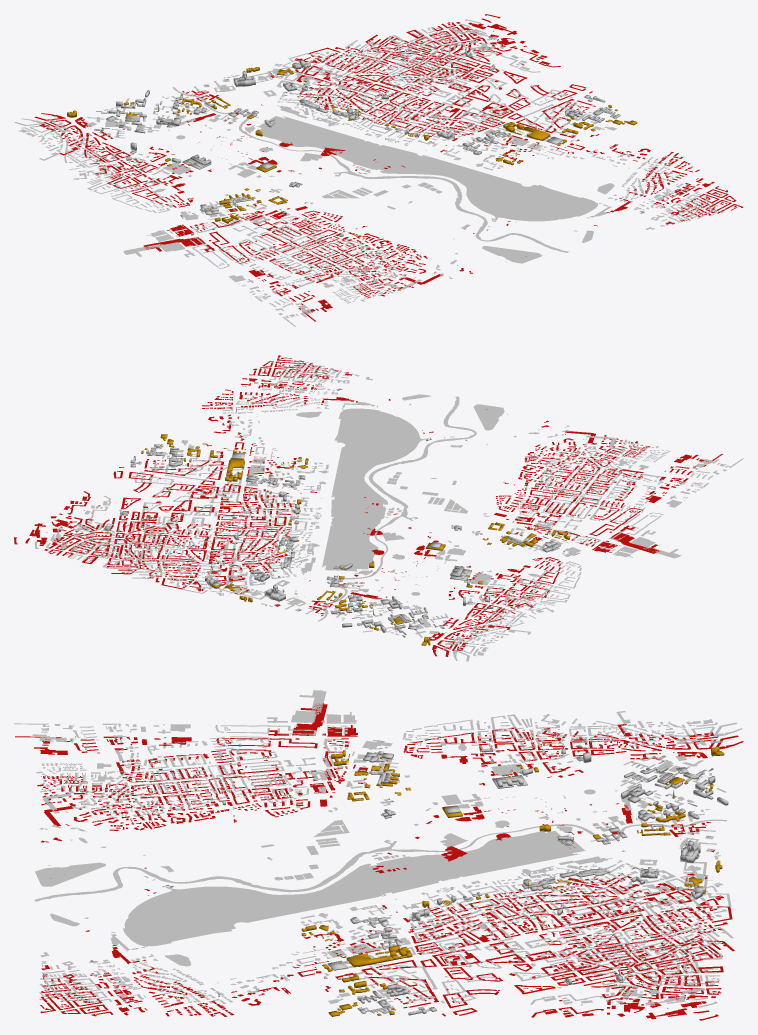
Rendered from hannover.obj.
3 views of the same model, one above another, from view 1: azimuth 30°, elevation 25°; view 2: azimuth 150°, elevation 25°; view 3: azimuth 270°, elevation 25° (orthographic). The views are drawn at different scales.
Parts seen in each view (by area): view 1: map.osm.001_map.osm; view 2: map.osm.001_map.osm; view 3: map.osm.001_map.osm.
Part boxes in pixels (bbox=[...]): map.osm.001_map.osm: bbox=[14, 19, 723, 326]; map.osm.001_map.osm: bbox=[34, 360, 743, 661]; map.osm.001_map.osm: bbox=[14, 690, 742, 1007].
Size of the model in its own units: 964 by 23.16 by 899.
